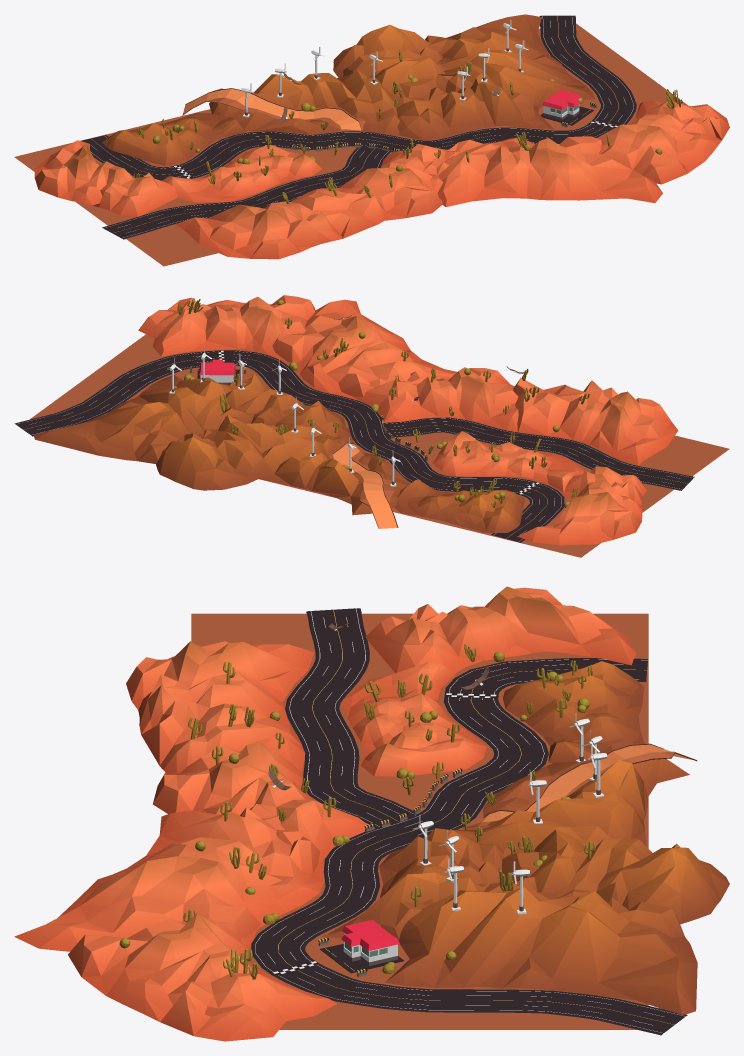
Rendered from RaceGameDesertPrototypeMap.fbx.
3 renders of one model, top to bottom at view 1: azimuth 30°, elevation 25°; view 2: azimuth 150°, elevation 25°; view 3: azimuth 270°, elevation 25°, orthographic. The views are drawn at different scales.
Parts seen in each view (by area): view 1: Plane.001, Plane.019, Plane.012, Plane, Plane.020, Plane.018, Plane.015, Plane.006, Plane.017, Plane.021, Plane.011, Plane.005 (+4 smaller); view 2: Plane.001, Plane.020, Plane.019, Plane, Plane.012, Plane.018, Plane.011, Plane.015, Plane.021, Plane.006, Plane.008, Plane.005 (+4 smaller); view 3: Plane.001, Plane.020, Plane.019, Plane, Plane.018, Plane.012, Plane.006, Plane.008, Plane.021, Plane.011, Plane.015, Plane.005 (+4 smaller).
Boxes of the visible parts, <box> form: Plane.001: <box>80,15,636,180</box>; Plane.019: <box>432,136,662,206</box>; Plane.012: <box>175,189,388,259</box>; Plane: <box>14,23,687,266</box>; Plane.020: <box>425,14,594,108</box>; Plane.018: <box>597,100,729,184</box>; Plane.015: <box>209,70,399,136</box>; Plane.006: <box>34,140,177,216</box>; Plane.017: <box>396,74,554,140</box>; Plane.021: <box>333,25,453,100</box>; Plane.011: <box>319,144,461,220</box>; Plane.005: <box>162,145,322,202</box>; Plane.001: <box>14,350,564,542</box>; Plane.020: <box>34,375,248,463</box>; Plane.019: <box>272,299,456,399</box>; Plane: <box>29,334,729,557</box>; Plane.012: <box>513,378,678,465</box>; Plane.018: <box>138,295,315,363</box>; Plane.011: <box>354,367,518,431</box>; Plane.015: <box>257,422,409,515</box>; Plane.021: <box>156,415,283,490</box>; Plane.006: <box>517,466,646,545</box>; Plane.008: <box>383,417,694,490</box>; Plane.005: <box>432,431,583,492</box>; Plane.001: <box>251,658,687,1035</box>; Plane.020: <box>385,881,697,1014</box>; Plane.019: <box>14,810,324,951</box>; Plane: <box>191,613,648,1029</box>; Plane.018: <box>68,912,336,1041</box>; Plane.012: <box>126,641,314,774</box>; Plane.006: <box>365,586,636,673</box>; Plane.008: <box>285,608,417,827</box>; Plane.021: <box>502,829,729,924</box>; Plane.011: <box>153,738,367,863</box>; Plane.015: <box>452,759,689,852</box>; Plane.005: <box>342,661,486,776</box>.
Bounding box in the file's own units: 13156 × 1866 × 9058.
